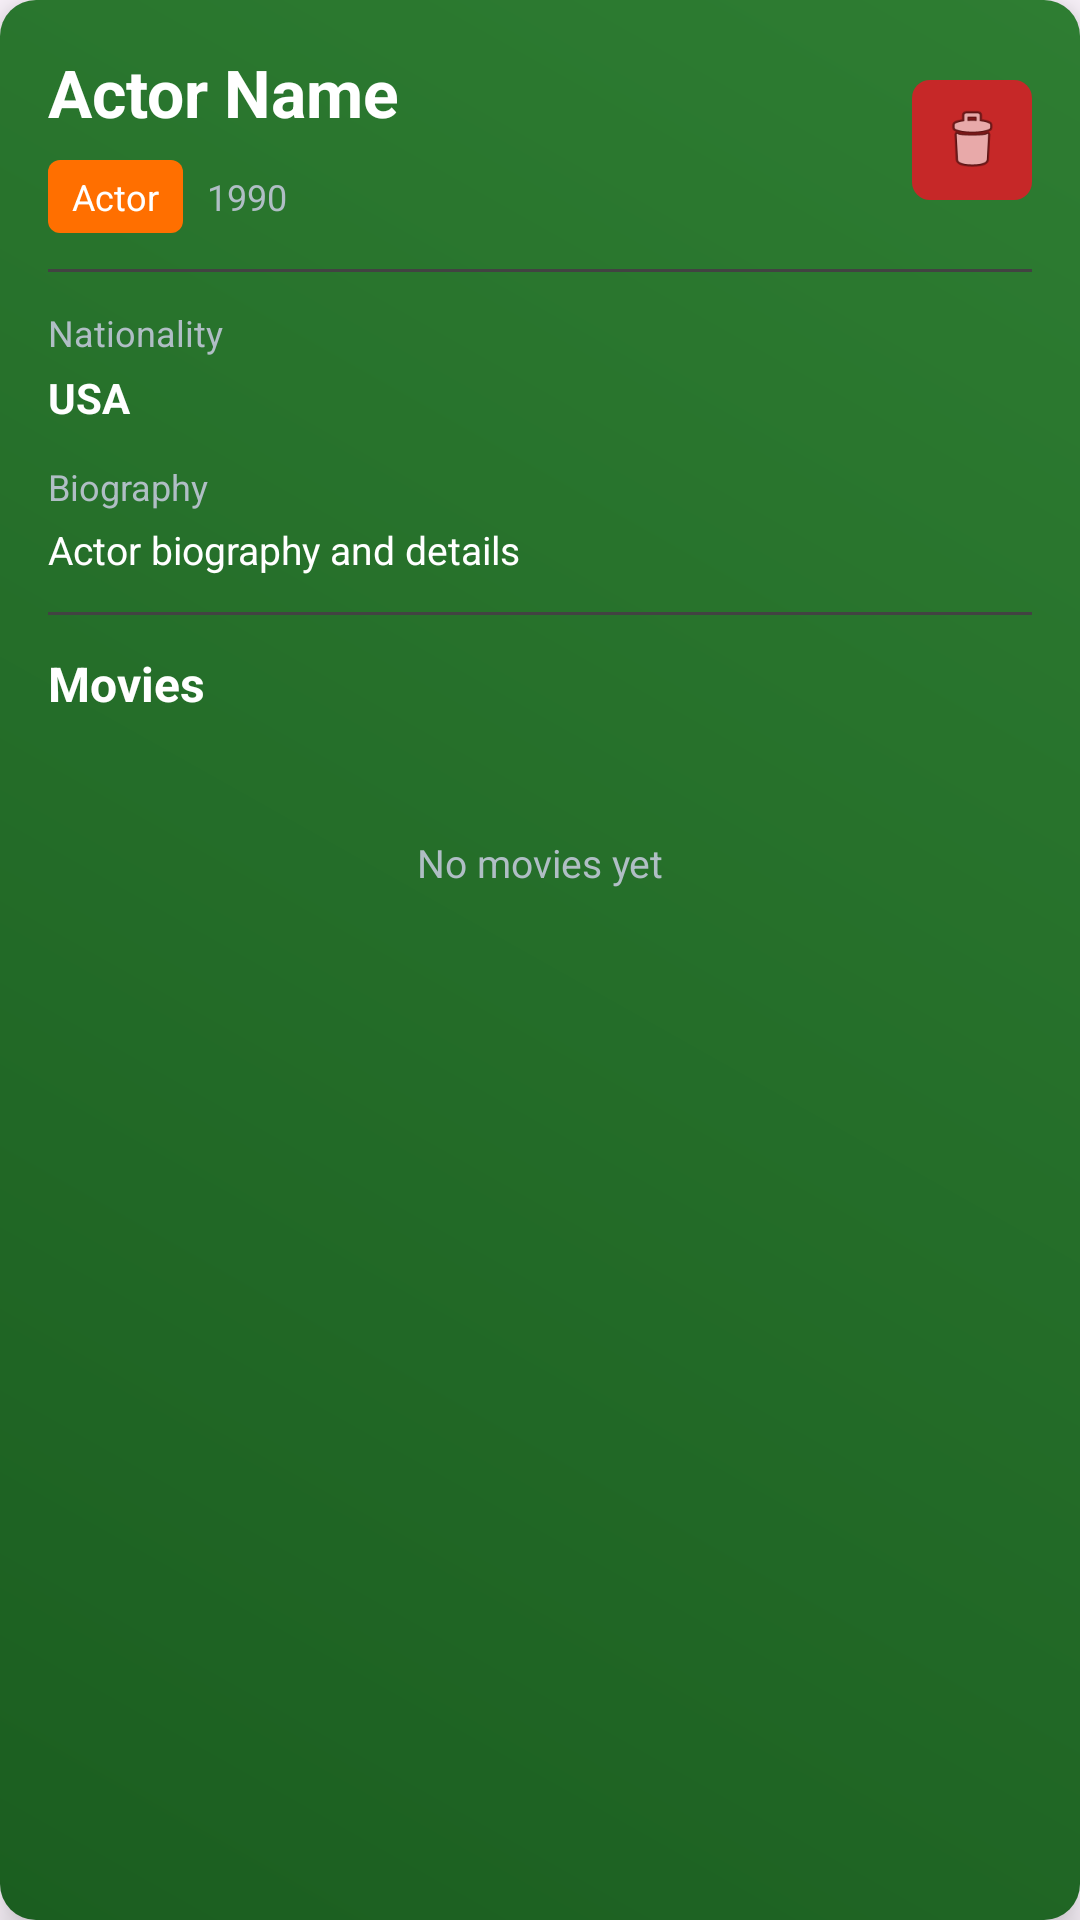

Icon bounding boxes for this 1080x1920 phone screenshot, format {"left": x1, "top": y1, "right": x2, "bottom": y2}:
Delete Actor: {"left": 912, "top": 80, "right": 1032, "bottom": 200}
